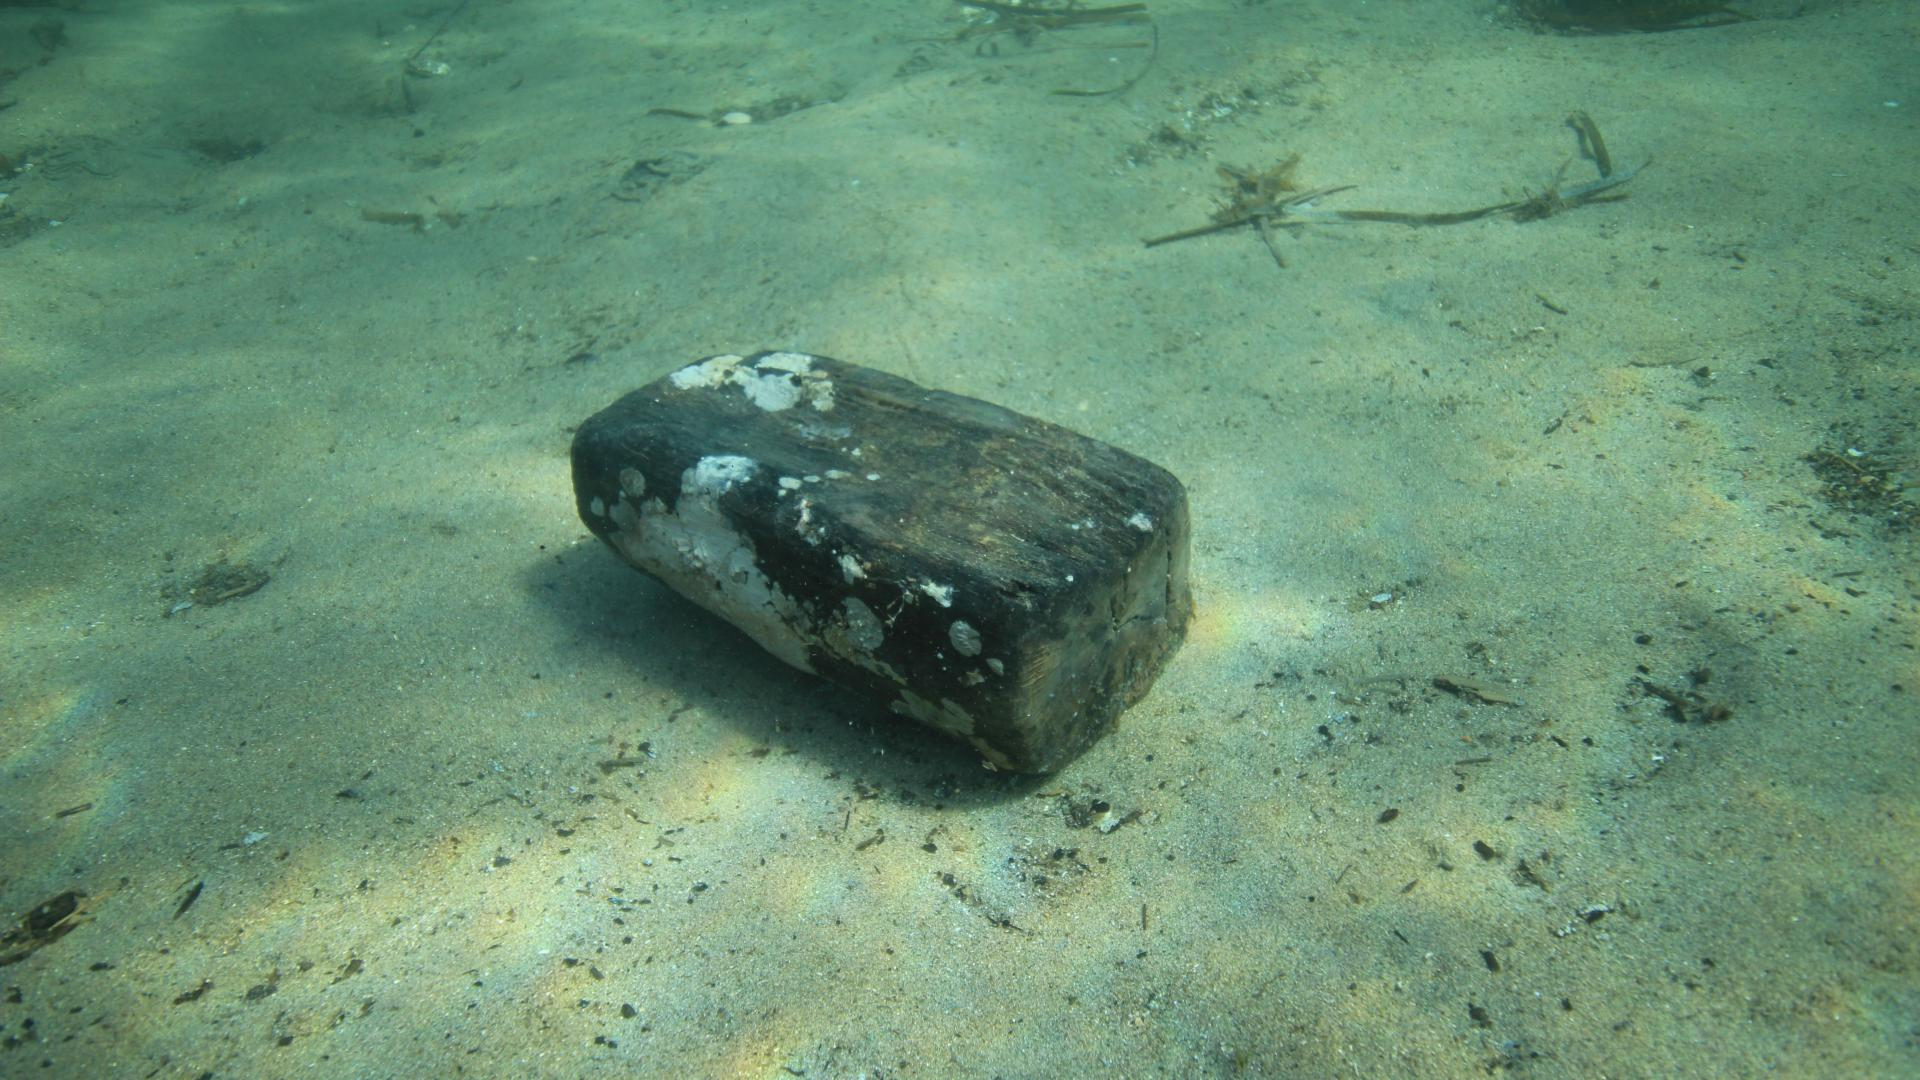wood: (570, 349, 1199, 785)
